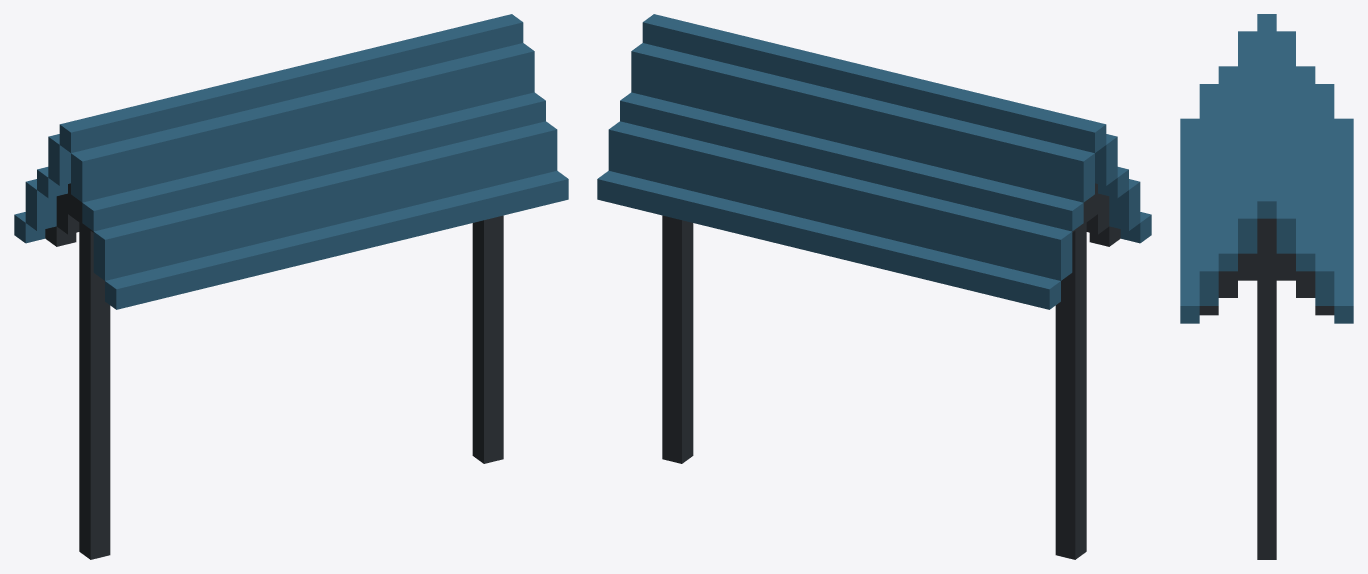
File: Market_Stands-2.fbx
3 renders of one model, left to right at view 1: azimuth 30°, elevation 25°; view 2: azimuth 150°, elevation 25°; view 3: azimuth 270°, elevation 25°, orthographic. The views are drawn at different scales.
Parts seen in each view (by area): view 1: Market_Stands_2; view 2: Market_Stands_2; view 3: Market_Stands_2.
Part boxes in pixels (bbox=[...]): Market_Stands_2: bbox=[14, 14, 568, 559]; Market_Stands_2: bbox=[597, 14, 1151, 559]; Market_Stands_2: bbox=[1180, 14, 1353, 559].
Size of the model in its own units: 230 by 210 by 90.
1 material, 1 textured.
